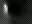person: (4, 4, 9, 19)
